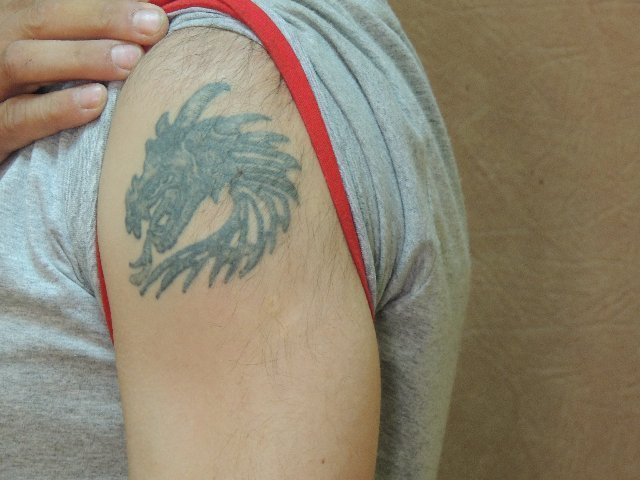tatu6_drakon: (109, 75, 314, 304)
